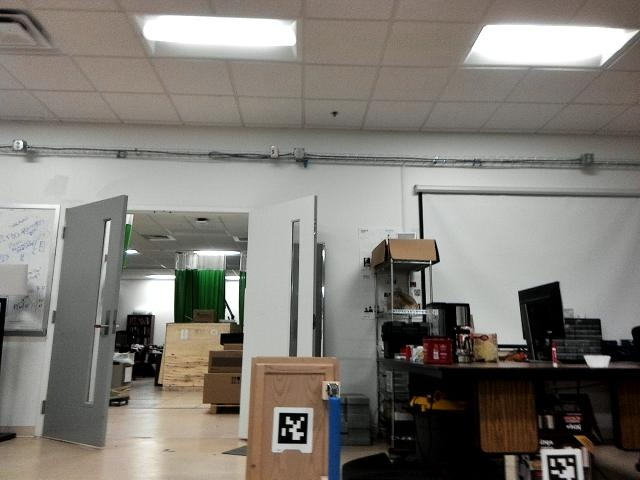noodle_handle: (321, 389, 346, 480)
